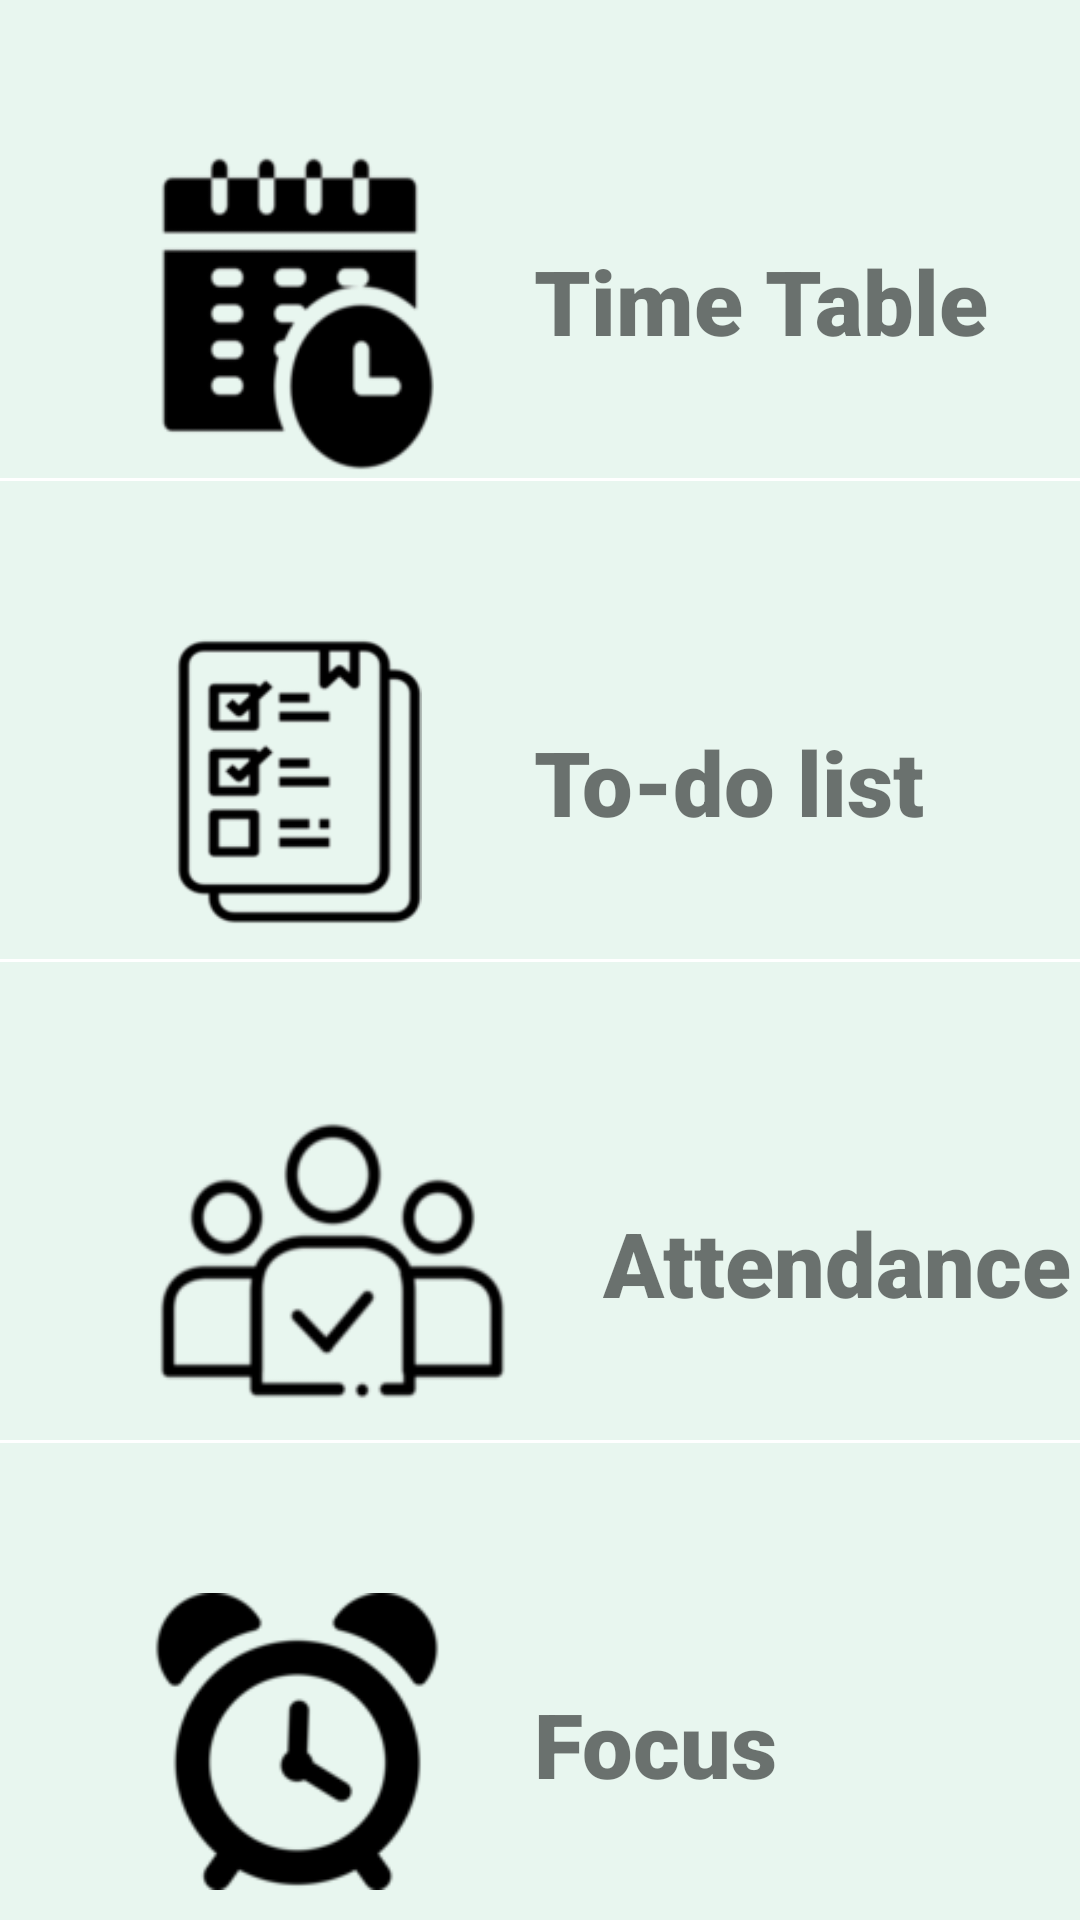

Named icons in this screenshot (1080px x 1920px) and their bounding boxes, Rect(x1, y1, x2, y2):
clockfinal: Rect(155, 1593, 439, 1890)
